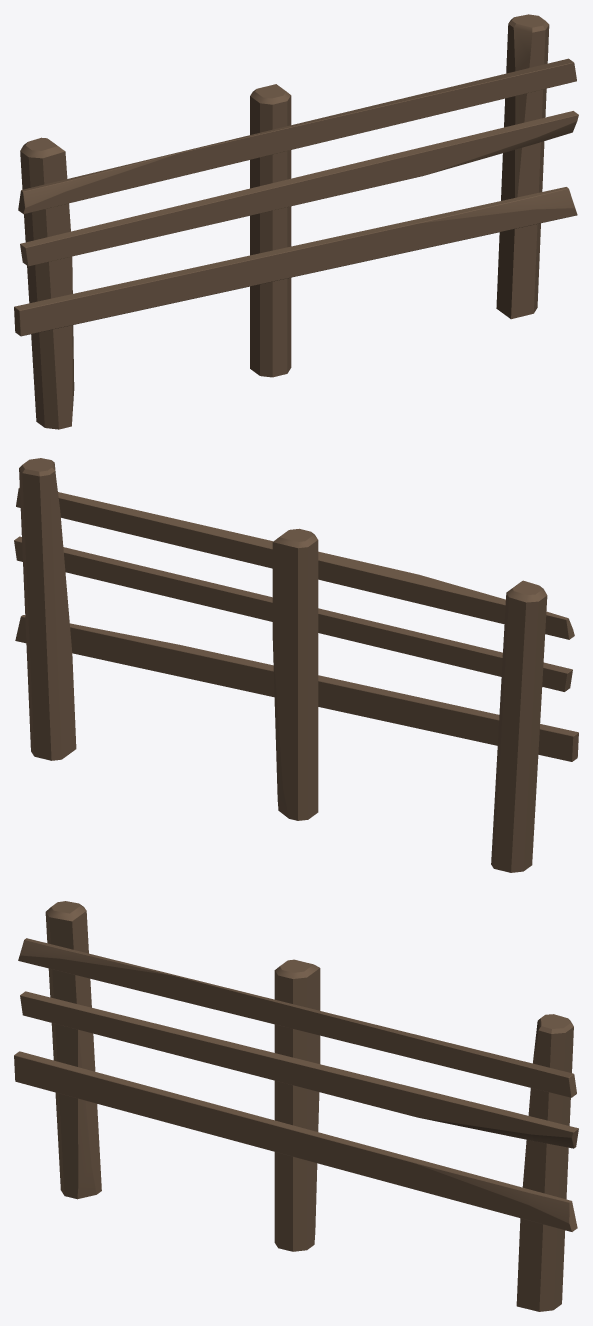
The model's file is Fence-M02A.fbx.
The picture shows the model from 3 angles, top to bottom: view 1: azimuth 30°, elevation 25°; view 2: azimuth 150°, elevation 25°; view 3: azimuth 330°, elevation 25°; orthographic projection.
Visible parts, largest first — view 1: Fence-M02A; view 2: Fence-M02A; view 3: Fence-M02A.
Part boxes in pixels (x1=…): Fence-M02A: x1=14, y1=14, x2=578, y2=429; Fence-M02A: x1=14, y1=458, x2=578, y2=872; Fence-M02A: x1=14, y1=901, x2=578, y2=1311.
Size of the model in its own units: 294 by 143 by 22.18.
